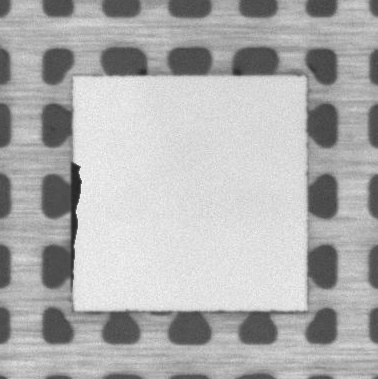DIE_BROKEN: (68, 156, 84, 297)
